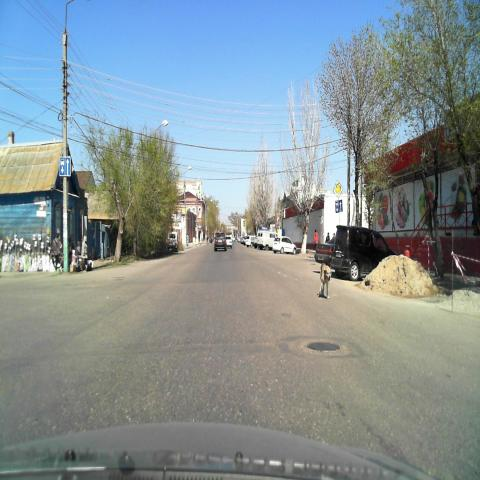5_11: (59, 155, 71, 177), (335, 199, 343, 213)
